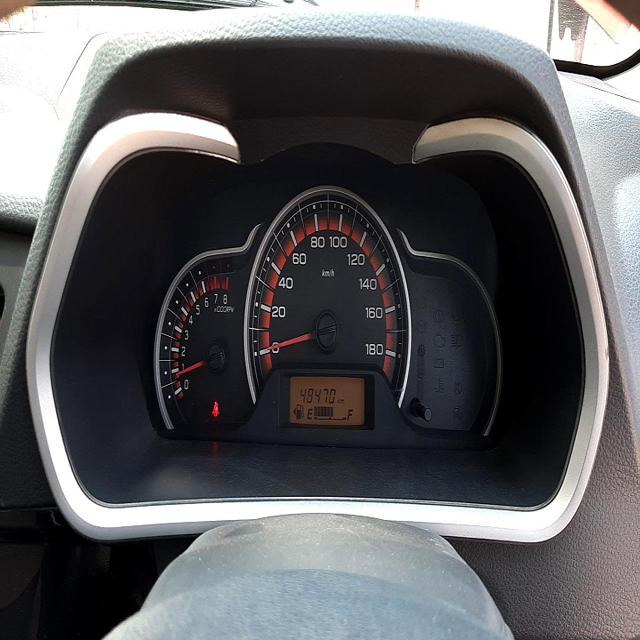odometer: (298, 386, 337, 404)
